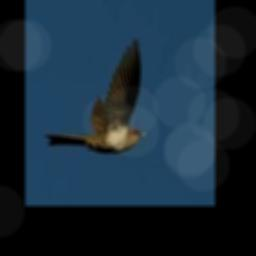Cuckoo: (44, 38, 146, 152)
